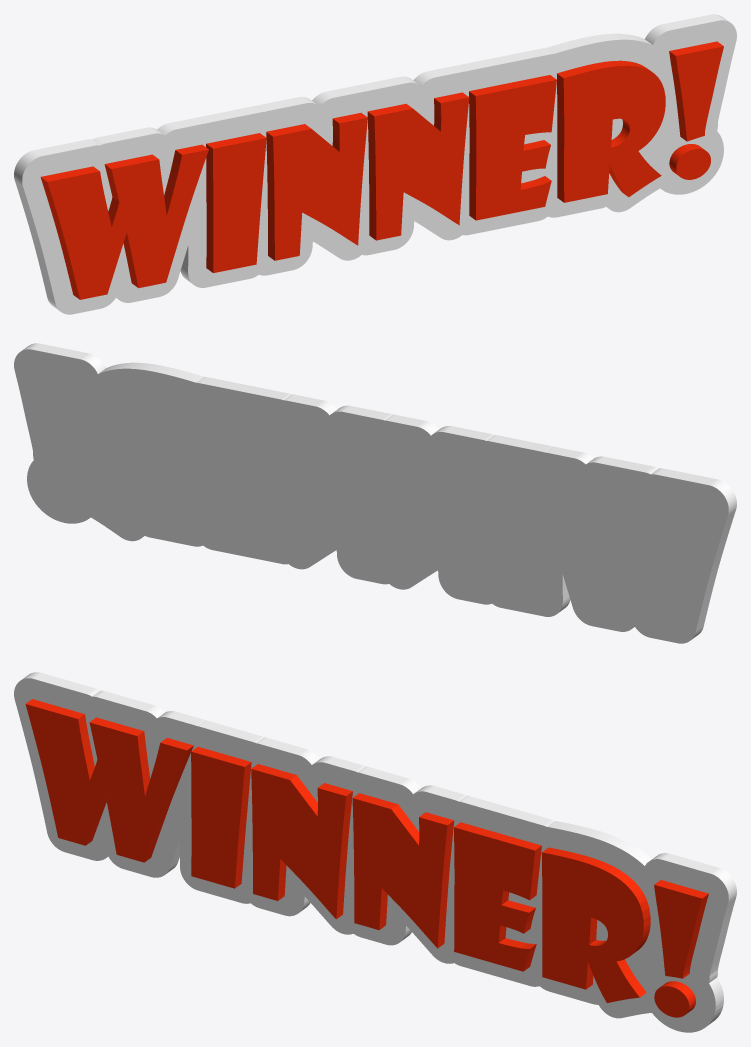
Rendered from Winner.fbx.
The picture shows the model from 3 angles, top to bottom: view 1: azimuth 30°, elevation 25°; view 2: azimuth 150°, elevation 25°; view 3: azimuth 330°, elevation 25°; orthographic projection.
Visible parts, largest first — view 1: Outline; view 2: Outline; view 3: Outline.
Boxes of the visible parts, x1=… form: Outline: x1=14, y1=14, x2=736, y2=314; Outline: x1=14, y1=343, x2=736, y2=643; Outline: x1=14, y1=672, x2=736, y2=1032.
Size of the model in its own units: 26.53 by 6.99 by 0.9668.
